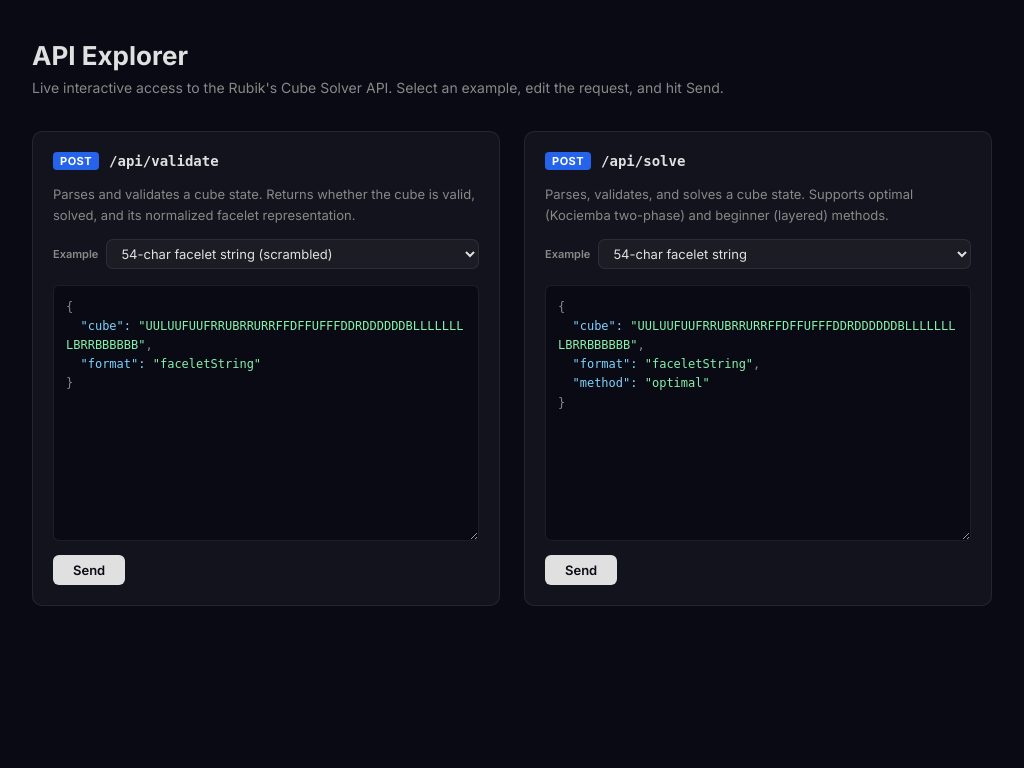
ApiExplorerPage › shows error message on bad JSON in textarea
The image size is (1024, 768).
Replace the text in the text box named "Request body for /api/validate" with "not json". click: (266, 413)
box: [54, 286, 478, 540]
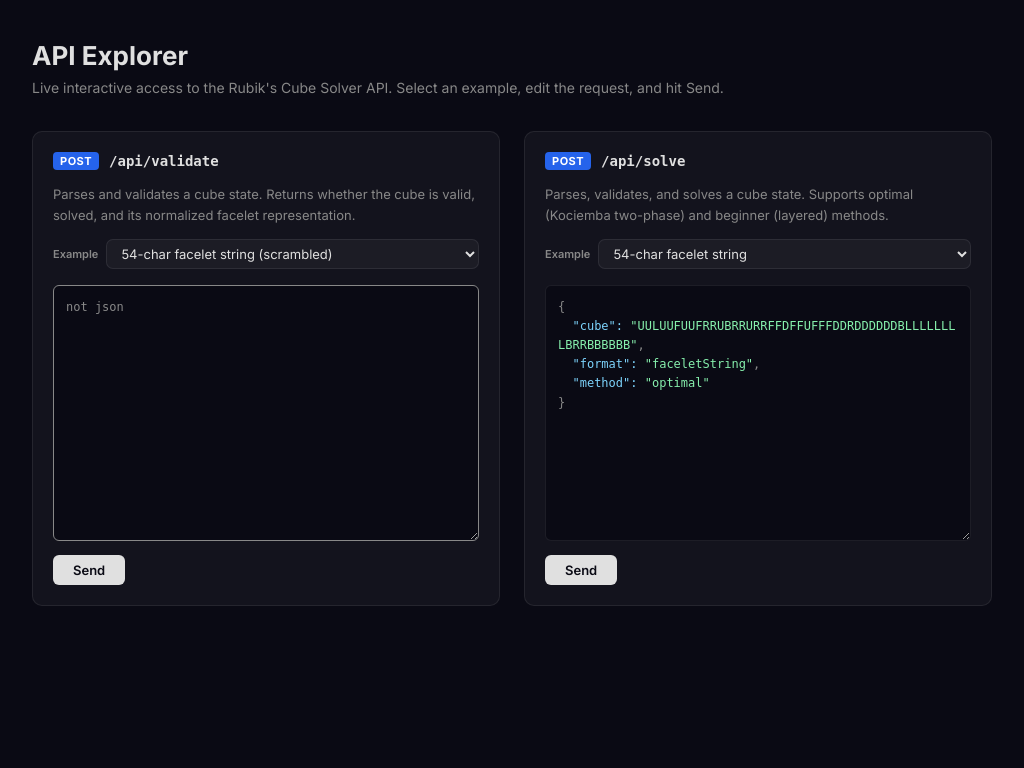
Click the button "Send" below "not json". click: (89, 570)
box: [53, 555, 125, 585]
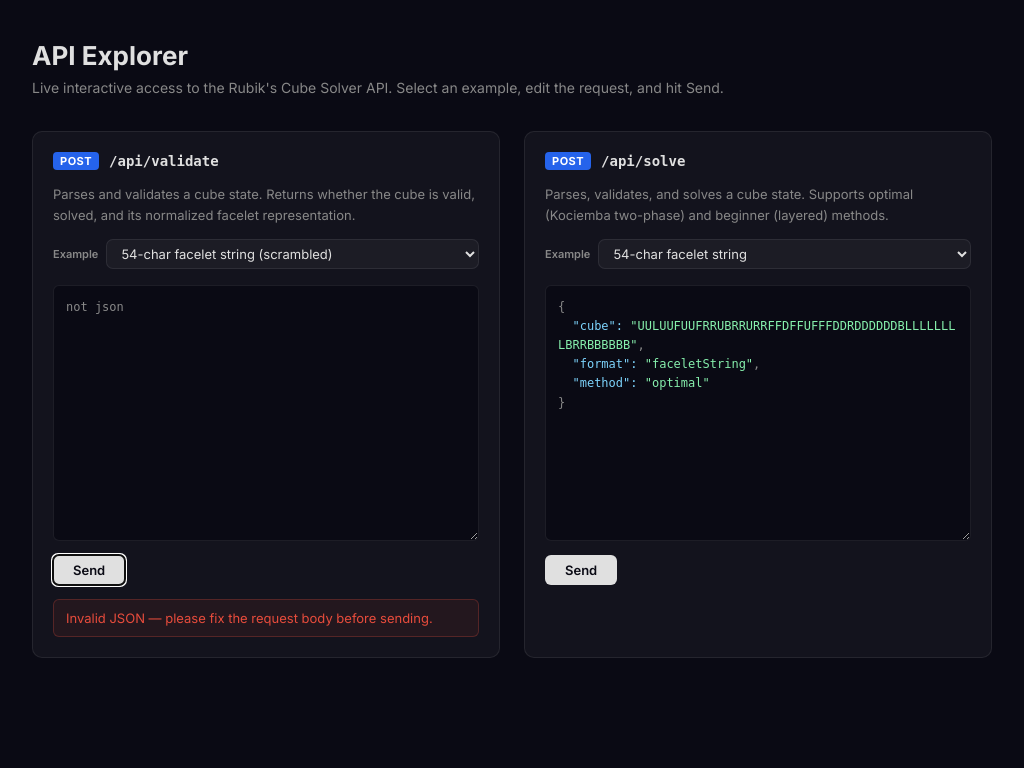
Expected: the text "Invalid JSON — please fix the request body before sending." is shown, [53, 599, 479, 637]
